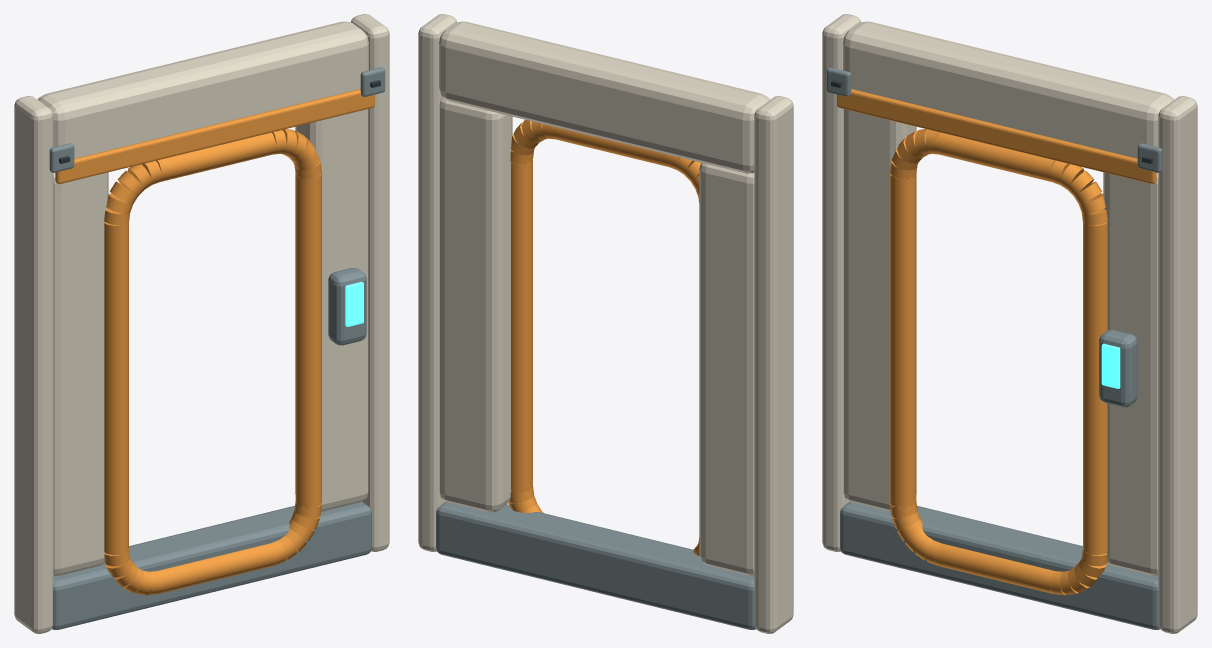
Rendered from door-2m.glb.
3 renders of one model, left to right at view 1: azimuth 30°, elevation 25°; view 2: azimuth 150°, elevation 25°; view 3: azimuth 330°, elevation 25°, orthographic.
Visible parts, largest first — view 1: door-2m__ivory, door-2m__orange, door-2m__steel, door-2m__cyan; view 2: door-2m__ivory, door-2m__steel, door-2m__orange; view 3: door-2m__ivory, door-2m__orange, door-2m__steel, door-2m__cyan.
Part boxes in pixels (left/top/right/bottom): door-2m__ivory: left=14, top=14, right=389, bottom=633; door-2m__orange: left=55, top=89, right=374, bottom=595; door-2m__steel: left=49, top=67, right=385, bottom=629; door-2m__cyan: left=345, top=281, right=363, bottom=326; door-2m__ivory: left=418, top=14, right=793, bottom=633; door-2m__steel: left=436, top=501, right=755, bottom=629; door-2m__orange: left=508, top=120, right=700, bottom=556; door-2m__ivory: left=822, top=14, right=1197, bottom=633; door-2m__orange: left=837, top=89, right=1156, bottom=595; door-2m__steel: left=826, top=67, right=1162, bottom=629; door-2m__cyan: left=1101, top=343, right=1120, bottom=388.
Size of the model in its own units: 2 by 2.8 by 0.375.
